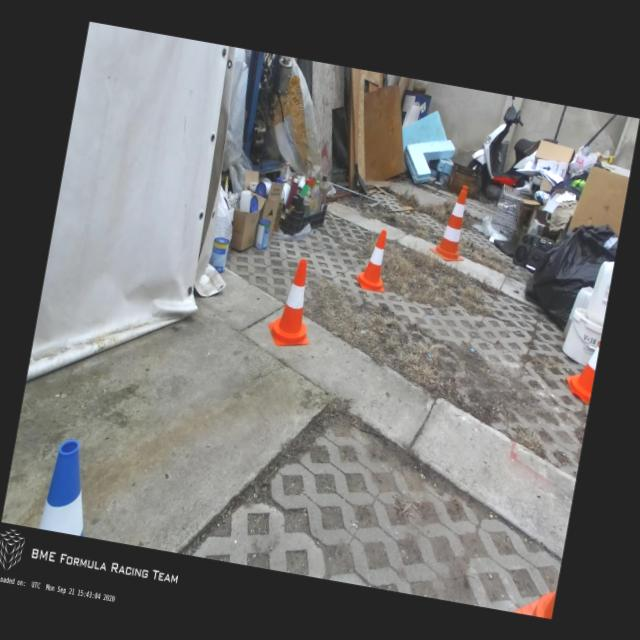blue_cone: (37, 436, 99, 536)
large_orange_cone: (428, 182, 476, 264)
orange_cone: (264, 255, 322, 352), (353, 227, 394, 293), (561, 335, 600, 404)
